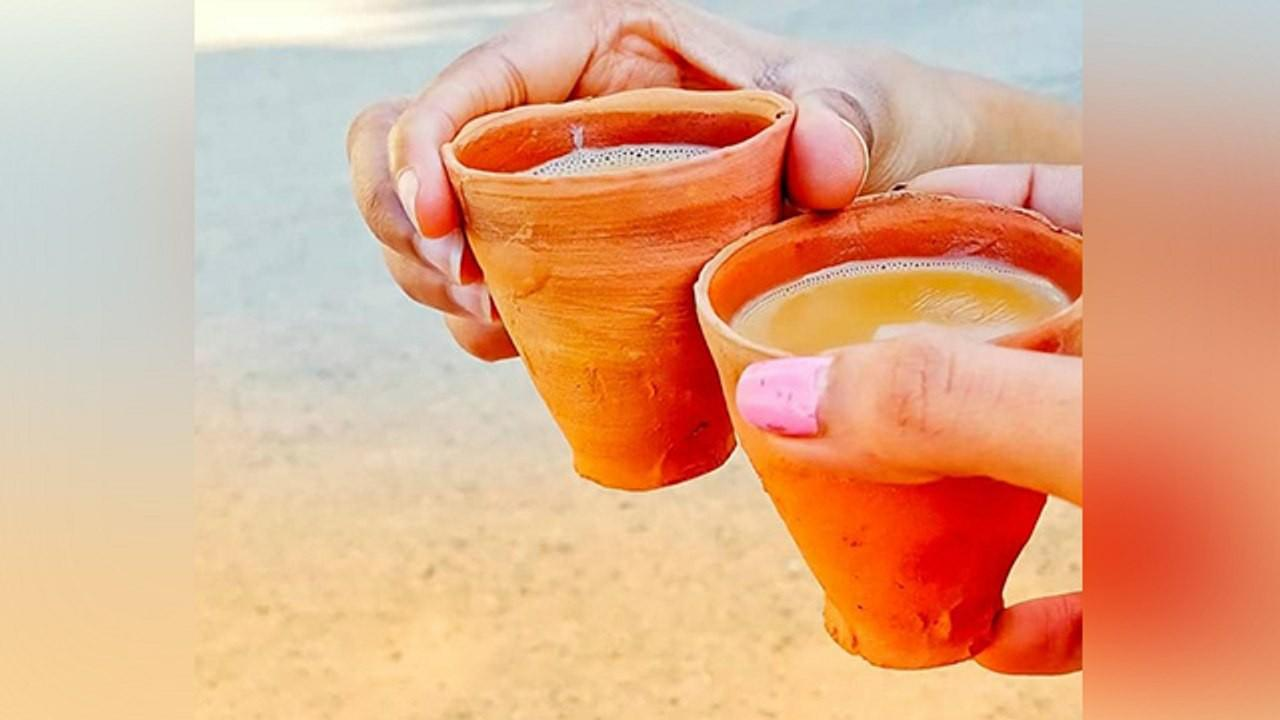Chai: (729, 256, 1066, 358), (489, 142, 715, 180)
